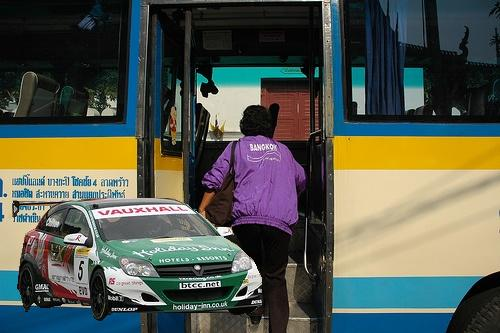tampered: (13, 199, 262, 321)
